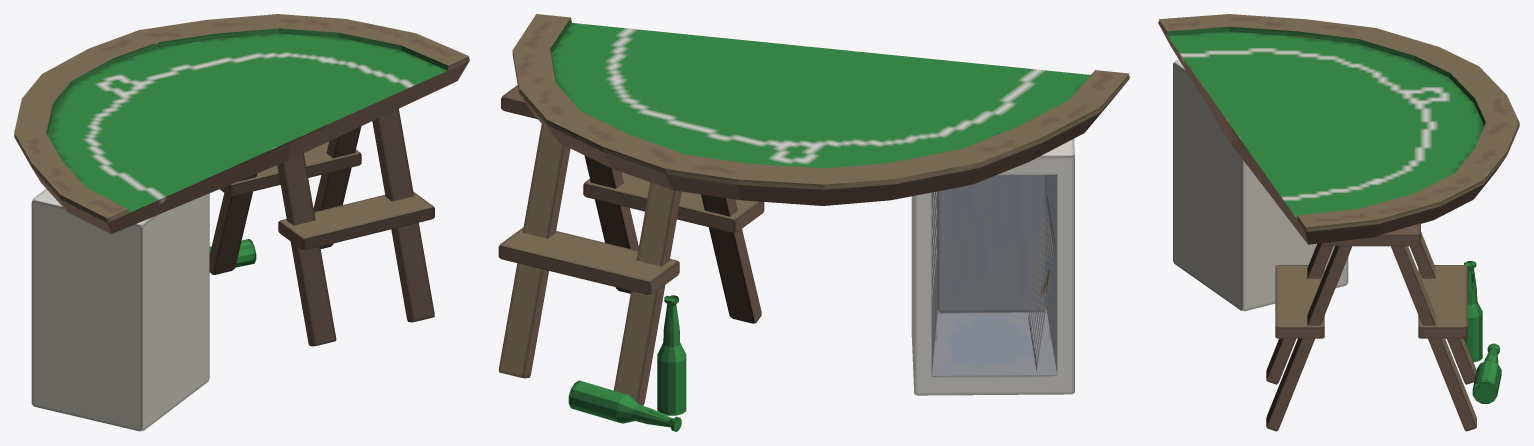
Rendered from blackjackTableNEW.fbx.
3 renders of one model, left to right at view 1: azimuth 30°, elevation 25°; view 2: azimuth 150°, elevation 25°; view 3: azimuth 270°, elevation 25°, orthographic. The views are drawn at different scales.
Parts seen in each view (by area): view 1: cylinder, cuboid, cuboid_2, cuboid_4, cuboid_7, cuboid_3, cuboid_6, cuboid_1, cylinder_2; view 2: cylinder, cuboid, cuboid_1, cuboid_6, cuboid_3, cuboid_4, cuboid_7, cylinder_1, cylinder_2, cuboid_2, plane, cuboid_5; view 3: cylinder, cuboid, cuboid_2, cuboid_1, cuboid_7, cuboid_6, cuboid_3, cuboid_4, cylinder_1, cylinder_2, cuboid_5.
Boxes of the visible parts, box(x1,y1,x2,y2) form: cylinder: box(14, 14, 469, 234); cuboid: box(31, 188, 209, 431); cuboid_2: box(372, 108, 434, 322); cuboid_4: box(277, 153, 336, 346); cuboid_7: box(278, 191, 434, 249); cuboid_3: box(209, 173, 257, 274); cuboid_6: box(220, 141, 361, 196); cuboid_1: box(313, 126, 361, 248); cylinder_2: box(209, 239, 256, 272); cylinder: box(512, 14, 1129, 205); cuboid: box(911, 139, 1074, 395); cuboid_1: box(499, 124, 570, 378); cuboid_6: box(498, 227, 679, 294); cuboid_3: box(613, 182, 681, 405); cuboid_4: box(701, 194, 761, 323); cuboid_7: box(583, 172, 764, 232); cylinder_1: box(657, 295, 686, 415); cylinder_2: box(568, 380, 681, 431); cuboid_2: box(584, 155, 638, 293); plane: box(1028, 196, 1055, 370); cuboid_5: box(501, 85, 536, 118); cylinder: box(1158, 14, 1519, 244); cuboid: box(1173, 60, 1348, 311); cuboid_2: box(1266, 246, 1351, 431); cuboid_1: box(1391, 246, 1476, 431); cuboid_7: box(1275, 265, 1324, 338); cuboid_6: box(1418, 265, 1467, 338); cuboid_3: box(1410, 232, 1476, 384); cuboid_4: box(1266, 243, 1333, 384); cylinder_1: box(1464, 261, 1482, 362); cylinder_2: box(1472, 343, 1501, 403); cuboid_5: box(1322, 223, 1420, 246).
Bounding box in the file's own units: 129 × 66.25 × 91.52.
1 material, 1 textured.
